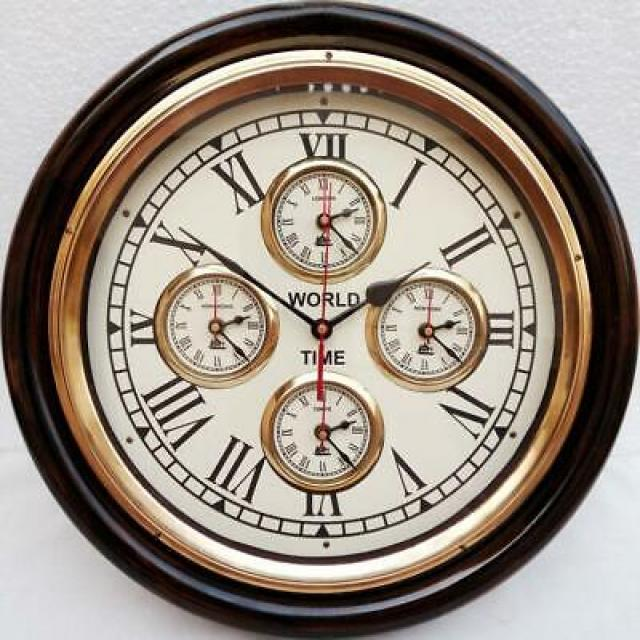clock: (0, 0, 632, 640)
